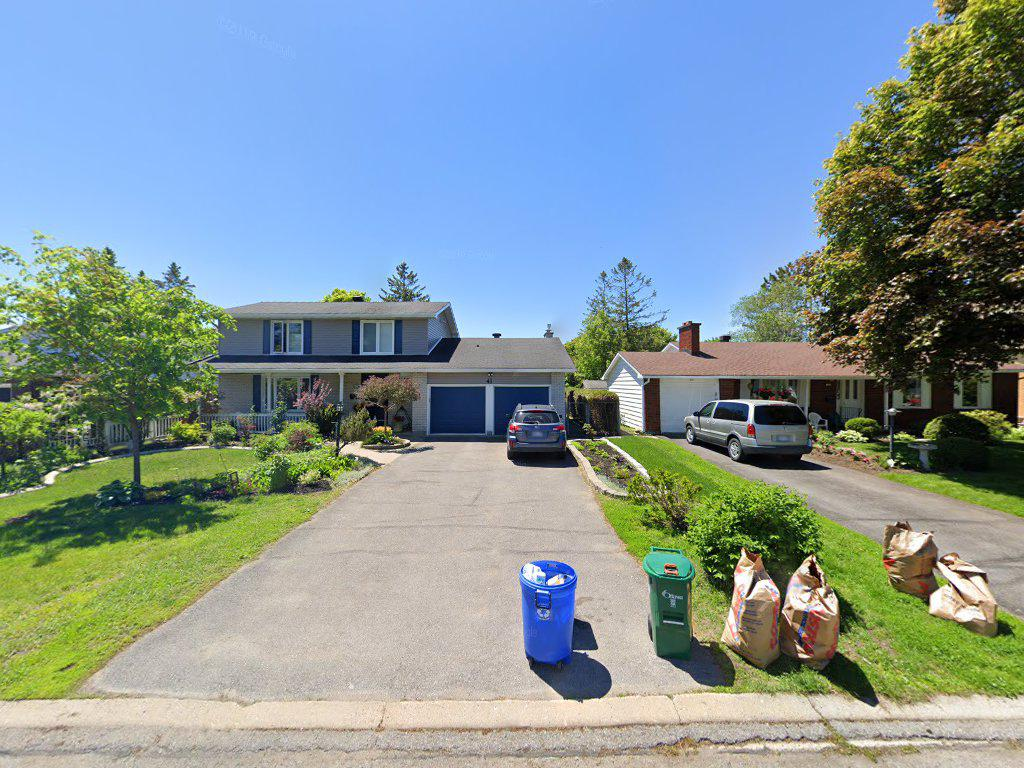trunk: (127, 416, 146, 502)
